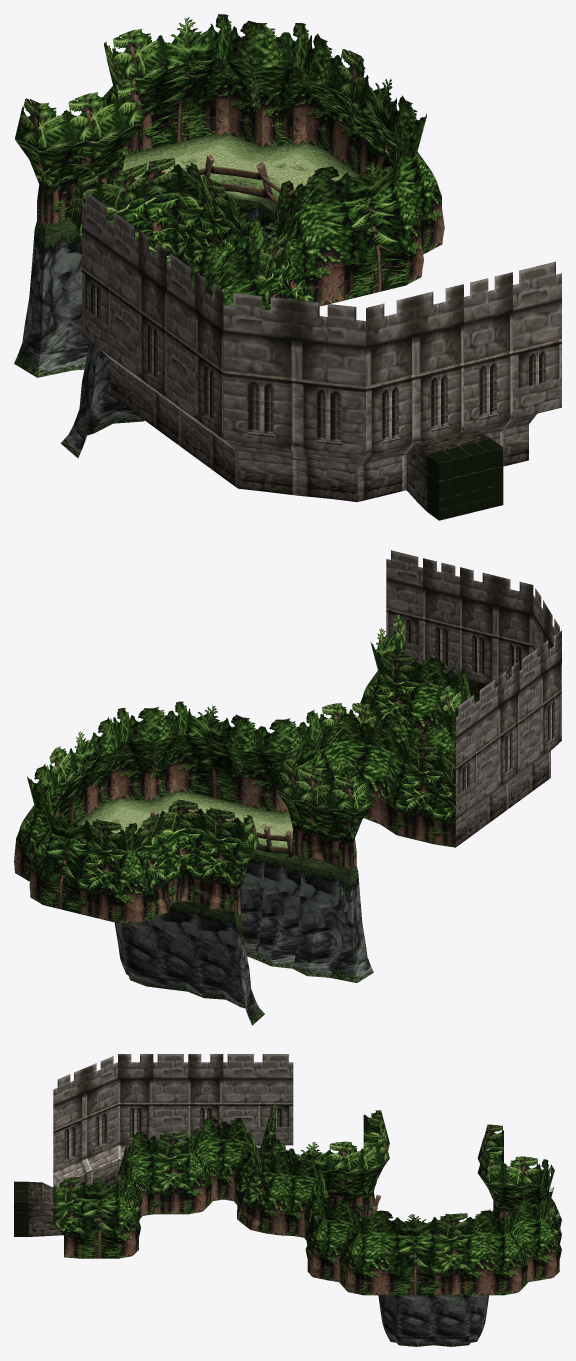
3 views of the same model, one above another, from view 1: azimuth 30°, elevation 25°; view 2: azimuth 150°, elevation 25°; view 3: azimuth 270°, elevation 25° (orthographic). The views are drawn at different scales.
Parts seen in each view (by area): view 1: T1L2M005_77, T1L2M005_9, T1L2M005_78, T1L2M005_81, T1L2M005_80, T1L2M005_10, T1L2M005_79, T1L2M005_71, T1L2M005_72, T1L2M005_7, T1L2M005_46, T1L2M005_2 (+35 smaller); view 2: T1L2M005_31, T1L2M005_10, T1L2M005_11, T1L2M005_32, T1L2M005_30, T1L2M005_49, T1L2M005_79, T1L2M005_80, T1L2M005_50, T1L2M005_1, T1L2M005_46, T1L2M005_81 (+30 smaller); view 3: T1L2M005_77, T1L2M005_53, T1L2M005_65, T1L2M005_49, T1L2M005_37, T1L2M005_22, T1L2M005_64, T1L2M005_15, T1L2M005_62, T1L2M005_29, T1L2M005_76, T1L2M005_54 (+34 smaller).
Boxes of the visible parts, box(x1,y1,x2,y2) form: T1L2M005_77: box(296, 300, 365, 501); T1L2M005_9: box(14, 98, 72, 377); T1L2M005_78: box(357, 296, 414, 501); T1L2M005_81: box(504, 261, 561, 465); T1L2M005_80: box(464, 272, 512, 466); T1L2M005_10: box(58, 92, 121, 370); T1L2M005_79: box(415, 284, 463, 443); T1L2M005_71: box(223, 293, 264, 491); T1L2M005_72: box(262, 297, 298, 495); T1L2M005_7: box(219, 20, 296, 171); T1L2M005_46: box(295, 166, 358, 306); T1L2M005_2: box(151, 17, 218, 161); T1L2M005_31: box(292, 768, 340, 977); T1L2M005_10: box(192, 807, 239, 1006); T1L2M005_11: box(156, 799, 203, 997); T1L2M005_32: box(256, 760, 303, 968); T1L2M005_30: box(329, 776, 373, 982); T1L2M005_49: box(432, 694, 476, 847); T1L2M005_79: box(460, 567, 496, 686); T1L2M005_80: box(423, 558, 459, 675); T1L2M005_50: box(395, 740, 442, 843); T1L2M005_1: box(78, 819, 125, 922); T1L2M005_46: box(223, 714, 270, 822); T1L2M005_81: box(386, 550, 422, 665); T1L2M005_77: box(53, 1068, 90, 1185); T1L2M005_53: box(242, 1148, 293, 1235); T1L2M005_65: box(118, 1054, 153, 1182); T1L2M005_49: box(258, 1054, 293, 1147); T1L2M005_37: box(363, 1210, 398, 1295); T1L2M005_22: box(433, 1213, 468, 1295); T1L2M005_64: box(153, 1132, 188, 1214); T1L2M005_15: box(469, 1210, 503, 1295); T1L2M005_62: box(153, 1054, 188, 1140); T1L2M005_29: box(398, 1214, 433, 1295); T1L2M005_76: box(83, 1177, 117, 1258); T1L2M005_54: box(223, 1054, 258, 1147).
Bounding box in the file's own units: 34 × 25.31 × 62.5.
1 material, 1 textured.
